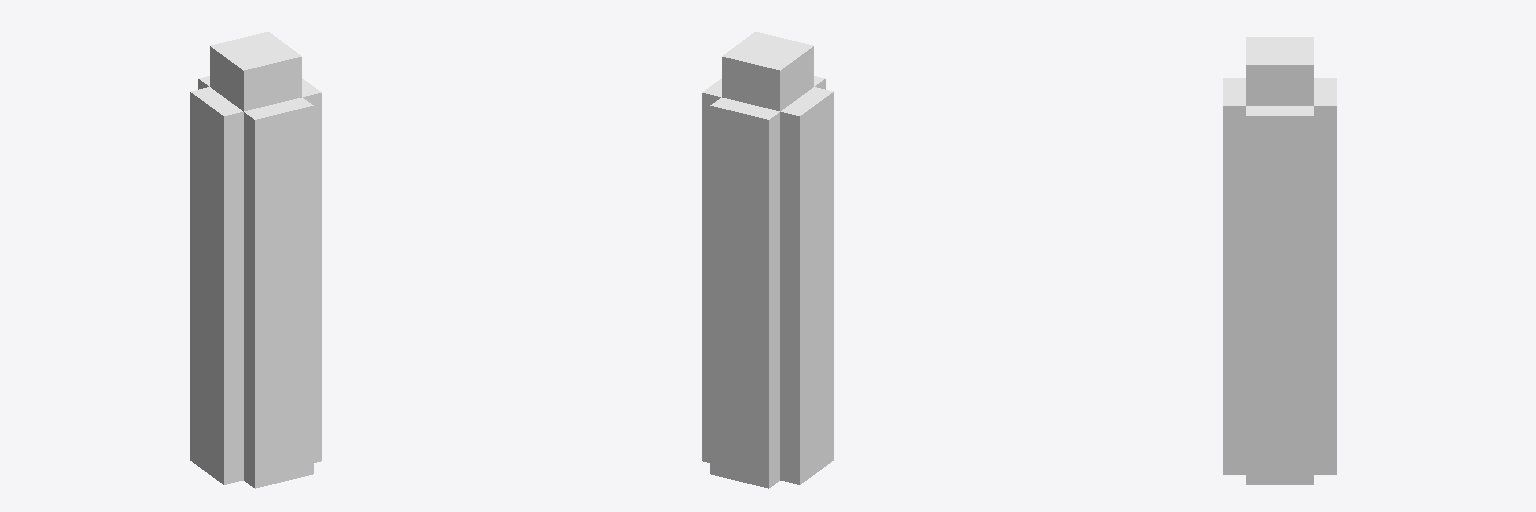
The model's file is fenceAngle.vox.obj.
3 views of the same model, side by side, from view 1: azimuth 30°, elevation 25°; view 2: azimuth 150°, elevation 25°; view 3: azimuth 270°, elevation 25° (orthographic).
Parts seen in each view (by area): view 1: object 1; view 2: object 1; view 3: object 1.
Part boxes in pixels (bbox=[...]): object 1: bbox=[190, 32, 321, 488]; object 1: bbox=[702, 32, 833, 488]; object 1: bbox=[1223, 37, 1336, 484].
Bounding box in the file's own units: 0.5 × 2 × 0.5.